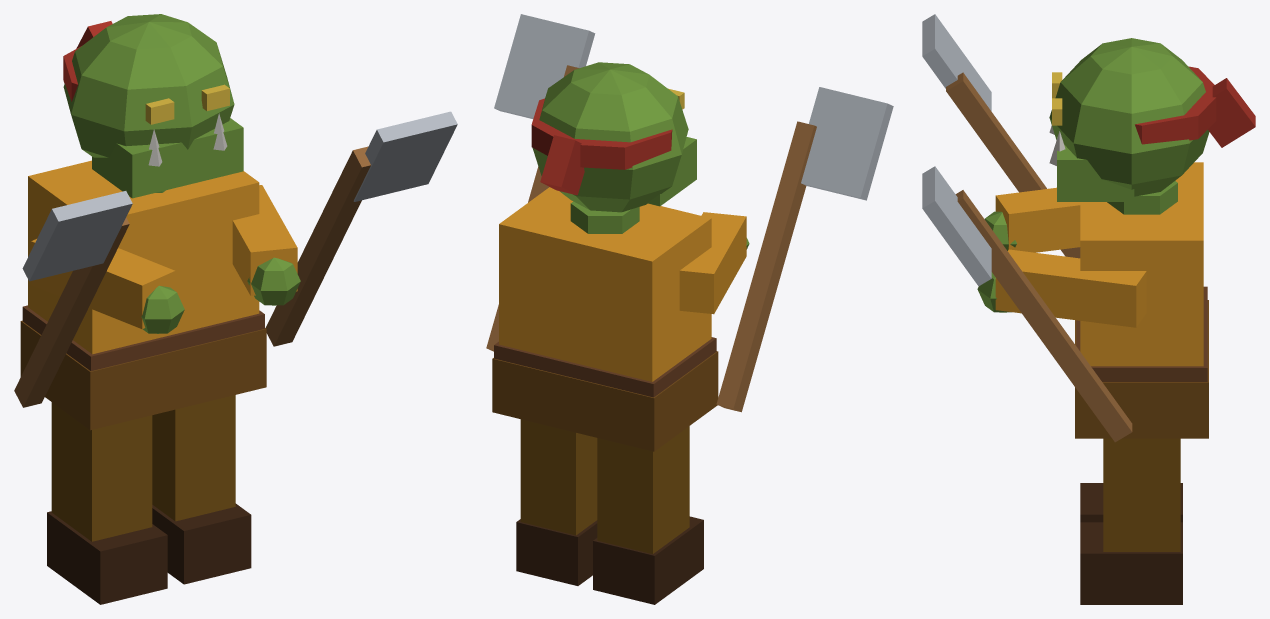
Rendered from e_runner.fbx.
The picture shows the model from 3 angles, left to right: view 1: azimuth 30°, elevation 25°; view 2: azimuth 150°, elevation 25°; view 3: azimuth 270°, elevation 25°; orthographic projection. The views are drawn at different scales.
Parts seen in each view (by area): view 1: e_runner_Body, e_runner_LegR, e_runner_LegL; view 2: e_runner_Body, e_runner_LegR, e_runner_LegL; view 3: e_runner_Body, e_runner_LegL, e_runner_LegR.
Boxes of the visible parts, x1,y1,x2,y2 form: e_runner_Body: (14,14,457,430); e_runner_LegR: (47,402,167,604); e_runner_LegL: (152,395,251,584); e_runner_Body: (486,14,893,451); e_runner_LegR: (593,426,703,604); e_runner_LegL: (516,419,597,585); e_runner_Body: (922,14,1255,442); e_runner_LegL: (1080,438,1182,604); e_runner_LegR: (1080,483,1182,522).
Size of the model in its own units: 0.86 by 1.12 by 0.6486.
